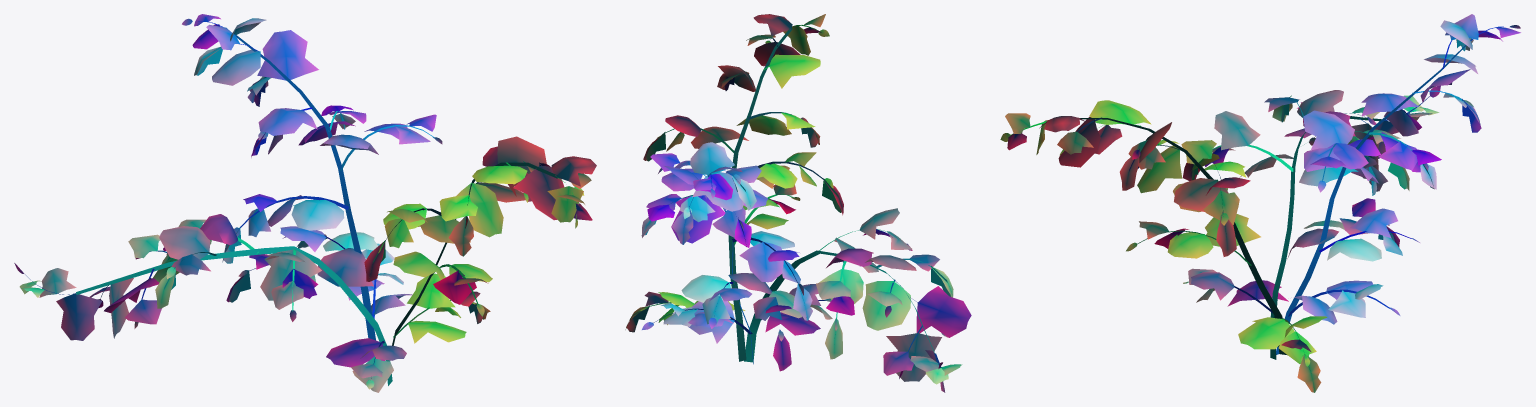
Rendered from Raspberry_wf0oefeja_High_wf0oefeja_VarE_LOD2.fbx.
3 renders of one model, left to right at view 1: azimuth 30°, elevation 25°; view 2: azimuth 150°, elevation 25°; view 3: azimuth 270°, elevation 25°, orthographic. The views are drawn at different scales.
Visible parts, largest first — view 1: _ks6q_VarE_LOD3; view 2: _ks6q_VarE_LOD3; view 3: _ks6q_VarE_LOD3.
Part boxes in pixels (box(x1,y1,x2,y2)): _ks6q_VarE_LOD3: box(14, 14, 596, 392); _ks6q_VarE_LOD3: box(625, 14, 971, 392); _ks6q_VarE_LOD3: box(1000, 14, 1520, 392).
Size of the model in its own units: 115 by 78.39 by 119.
